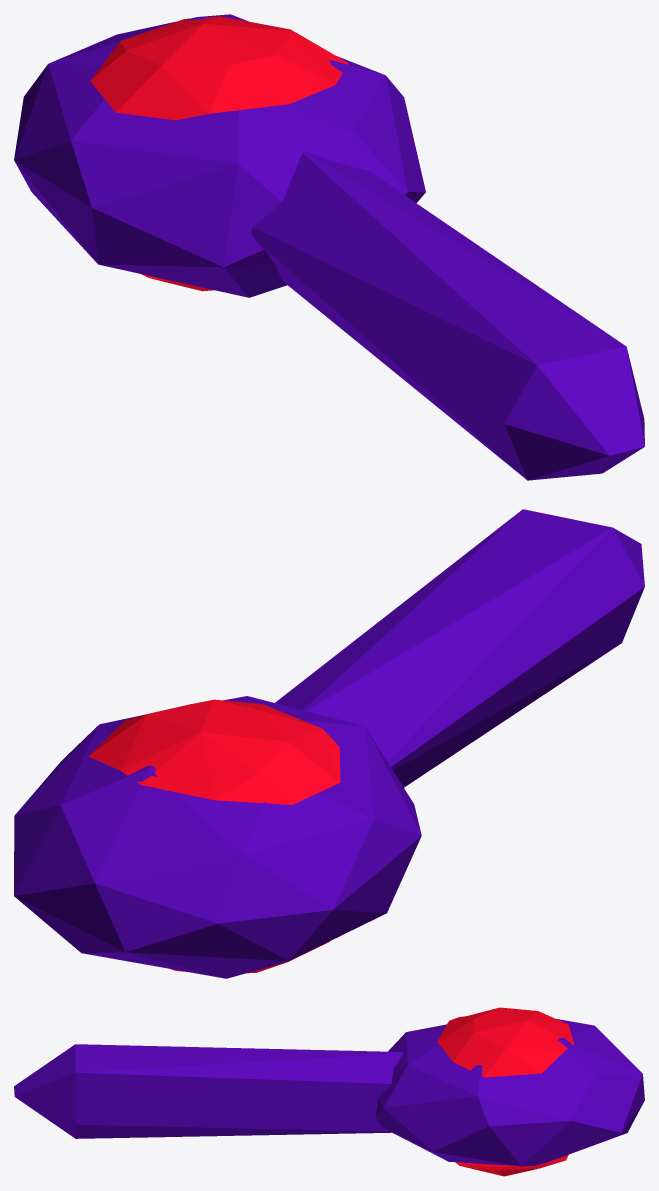
Rendered from clostridium_tetani.fbx.
3 views of the same model, one above another, from view 1: azimuth 30°, elevation 25°; view 2: azimuth 150°, elevation 25°; view 3: azimuth 270°, elevation 25° (orthographic). The views are drawn at different scales.
Visible parts, largest first — view 1: Cylinder; view 2: Cylinder; view 3: Cylinder.
Part boxes in pixels (x1,y1,x2,y2): Cylinder: [14, 14, 644, 480]; Cylinder: [14, 509, 644, 978]; Cylinder: [14, 1007, 644, 1176].
Bounding box in the file's own units: 0.8353 × 2.24 × 0.5595.
